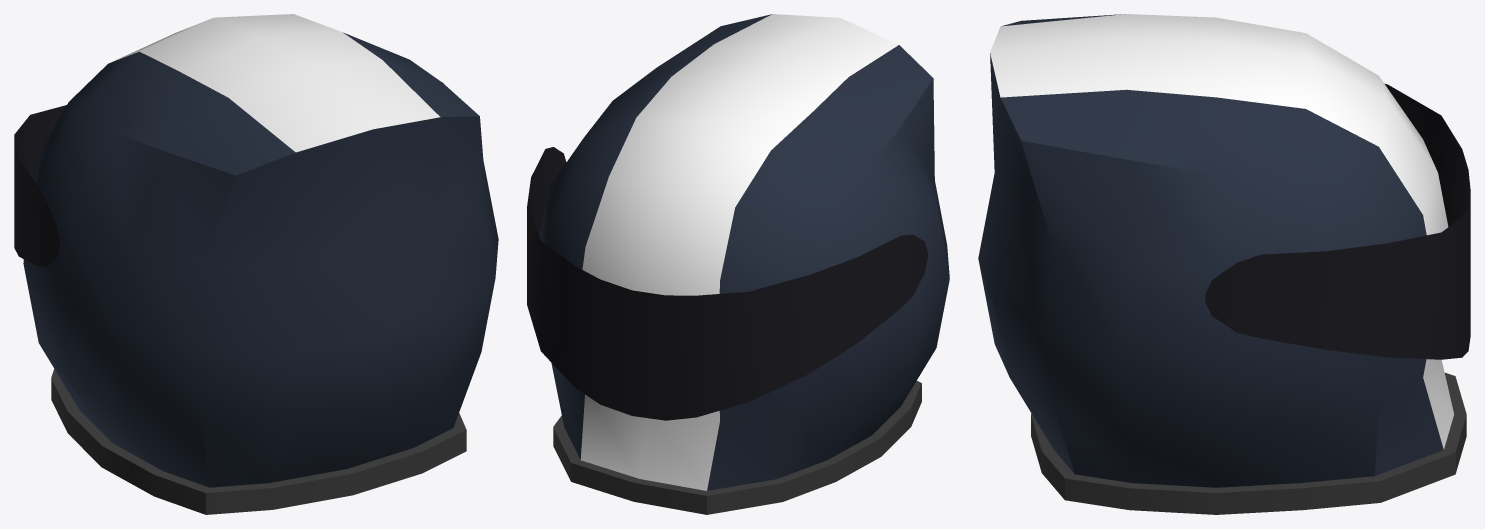
Rendered from Motocycle.fbx.
3 views of the same model, side by side, from view 1: azimuth 30°, elevation 25°; view 2: azimuth 150°, elevation 25°; view 3: azimuth 270°, elevation 25° (orthographic). The views are drawn at different scales.
Parts seen in each view (by area): view 1: Motocycle; view 2: Motocycle; view 3: Motocycle.
Part boxes in pixels (left/top/right/bottom): Motocycle: left=14, top=14, right=498, bottom=514; Motocycle: left=527, top=14, right=949, bottom=514; Motocycle: left=978, top=14, right=1470, bottom=514.
Size of the model in its own units: 0.9496 by 0.868 by 0.9724.
